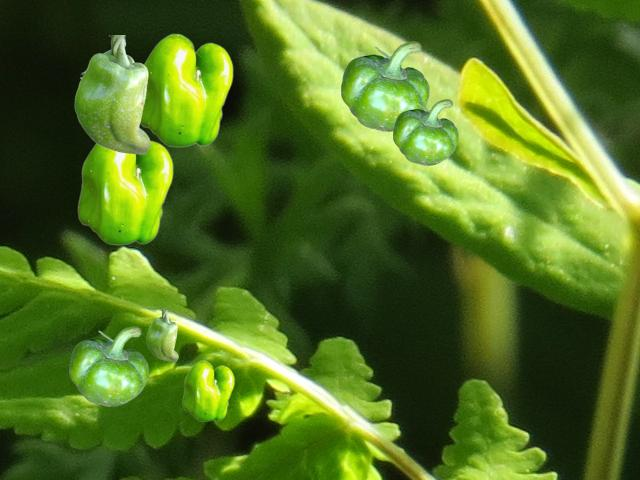bell_pepper: (141, 33, 232, 146), (77, 140, 172, 244), (74, 35, 149, 153), (341, 41, 428, 130), (69, 326, 147, 405), (393, 99, 457, 164), (182, 360, 233, 420), (146, 310, 177, 360)
